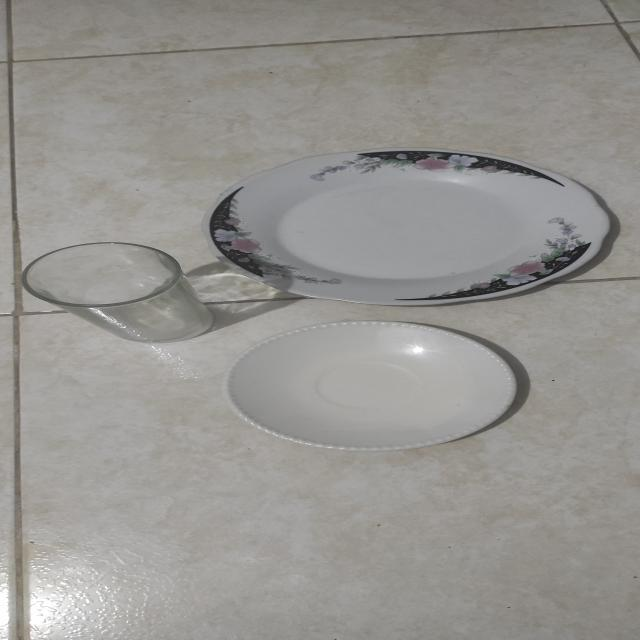non-organic waste: (180, 140, 640, 310), (188, 316, 600, 462)
